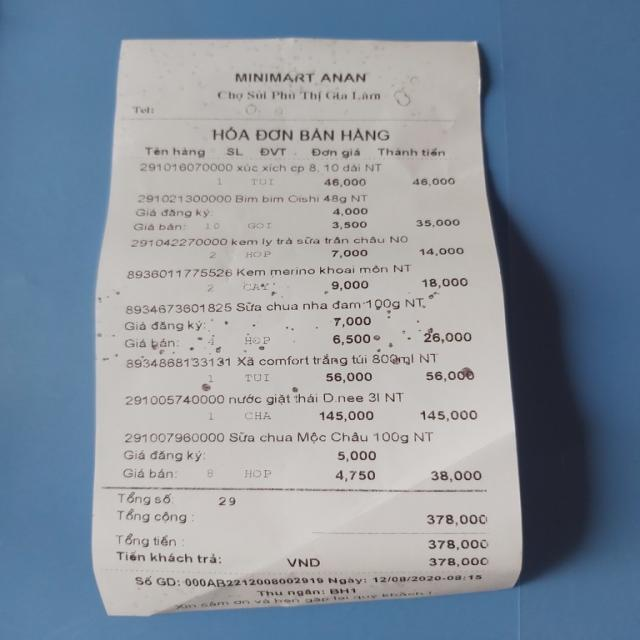Date: (374, 574, 443, 584)
Store_Name: (231, 68, 376, 86)
amount_number: (424, 512, 488, 526)
label_total: (116, 508, 191, 526)
